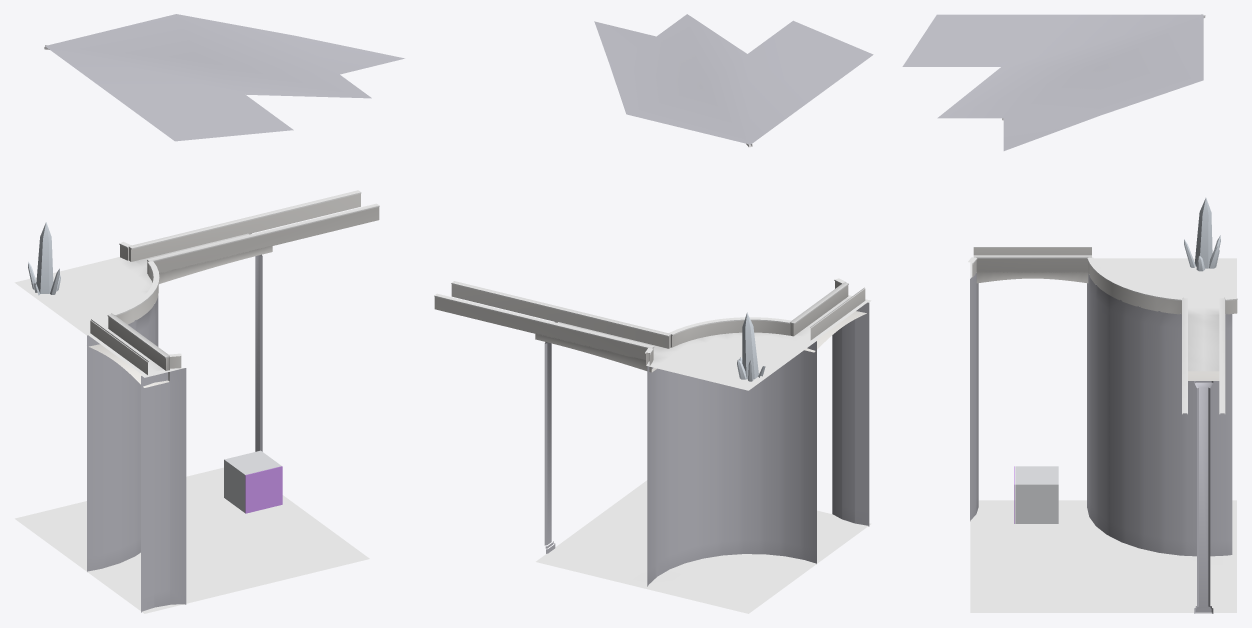
File: crypt_09_as.glb
3 renders of one model, left to right at view 1: azimuth 30°, elevation 25°; view 2: azimuth 150°, elevation 25°; view 3: azimuth 270°, elevation 25°, orthographic. The views are drawn at different scales.
Visible parts, largest first — view 1: crypt_09_as; view 2: crypt_09_as; view 3: crypt_09_as.
Part boxes in pixels (x1,y1,x2,y2): crypt_09_as: (14, 14, 404, 613); crypt_09_as: (434, 14, 873, 613); crypt_09_as: (902, 14, 1237, 613).
Size of the model in its own units: 24.04 by 32.65 by 20.1.
